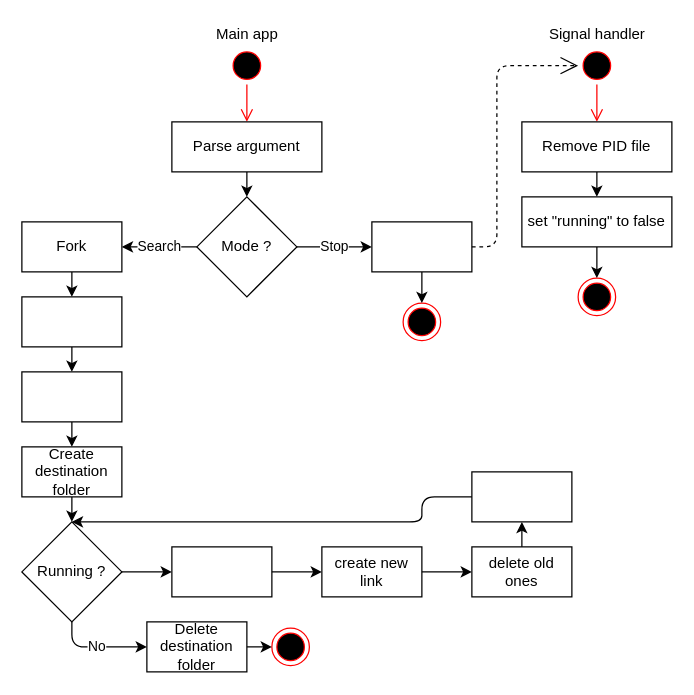
Image size: 694x695. Some labels were removed from this diagram. The shapes that lost their labels are listed below. From the top down, each one's centre as x and y in pixels, then its label:
At (421,246): "Kill signal".
At (71,321): "Parse expression".
At (71,396): "Set PID file".
At (521,496): "sleep".
At (221,571): "Finder get all files to link".
